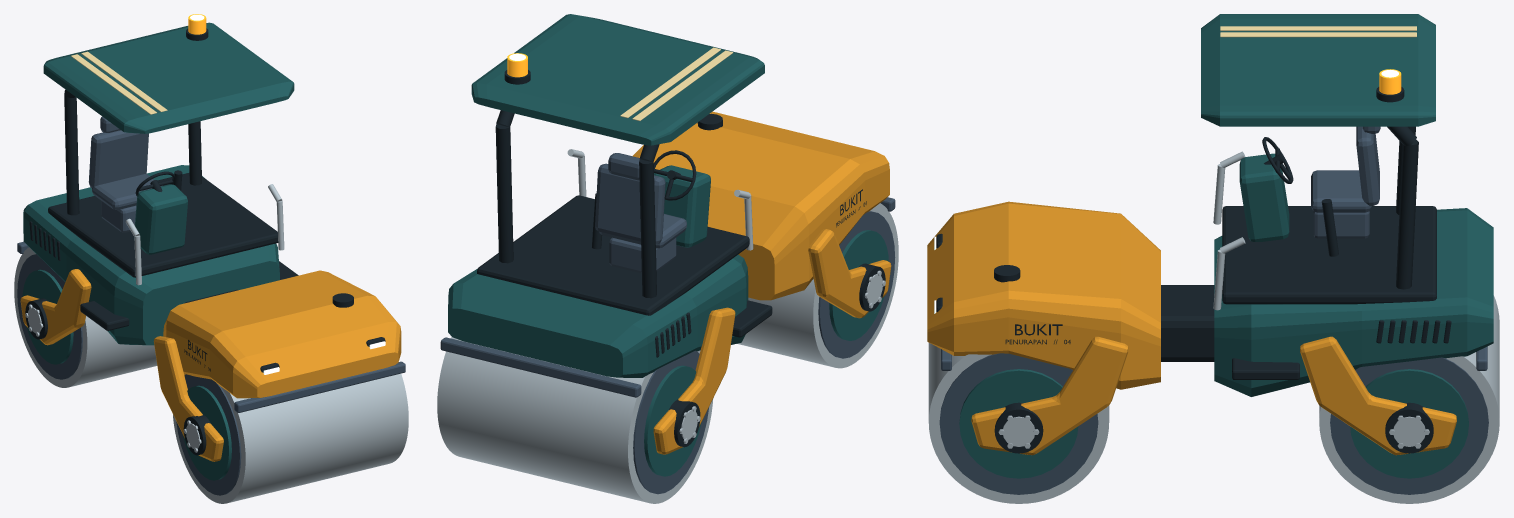
3 views of the same model, side by side, from view 1: azimuth 30°, elevation 25°; view 2: azimuth 150°, elevation 25°; view 3: azimuth 270°, elevation 25° (orthographic). The views are drawn at different scales.
Parts seen in each view (by area): view 1: Bukit Tandem Roller; view 2: Bukit Tandem Roller; view 3: Bukit Tandem Roller.
Boxes of the visible parts, x1,y1,x2,y2 form: Bukit Tandem Roller: [14, 14, 408, 503]; Bukit Tandem Roller: [437, 14, 898, 503]; Bukit Tandem Roller: [927, 14, 1499, 503].
Size of the model in its own units: 1.9 by 3.1 by 3.87.
